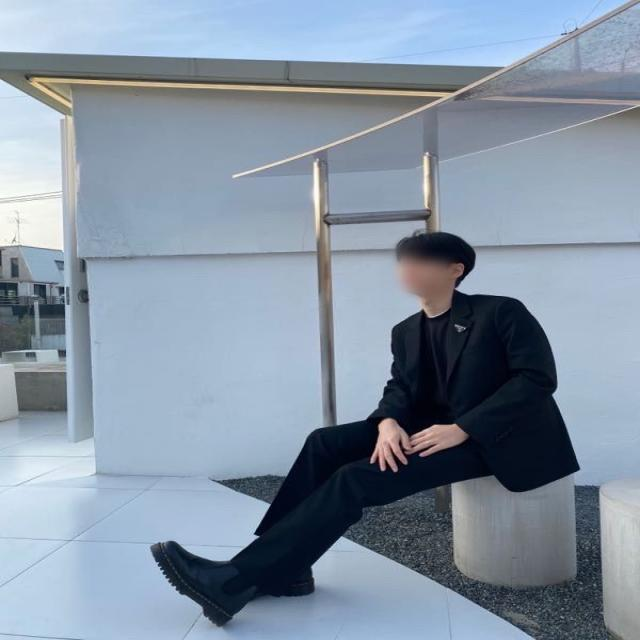blazer: (366, 294, 582, 495)
slacks: (232, 413, 550, 580)
